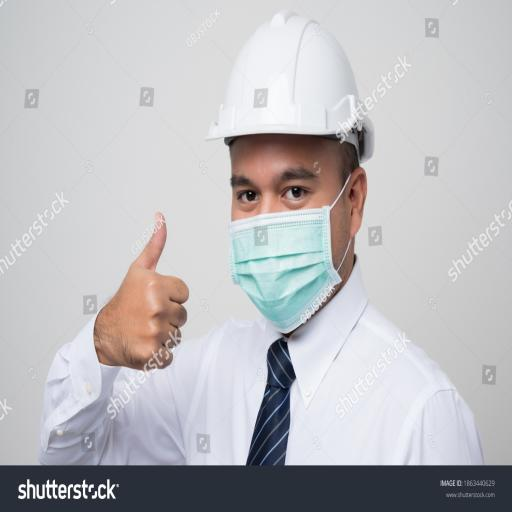mask: (230, 213, 337, 324)
